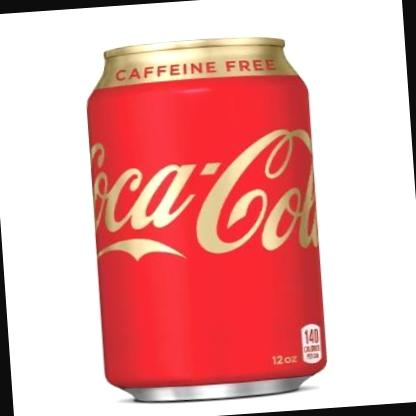alumunium_can: (80, 31, 333, 410)
